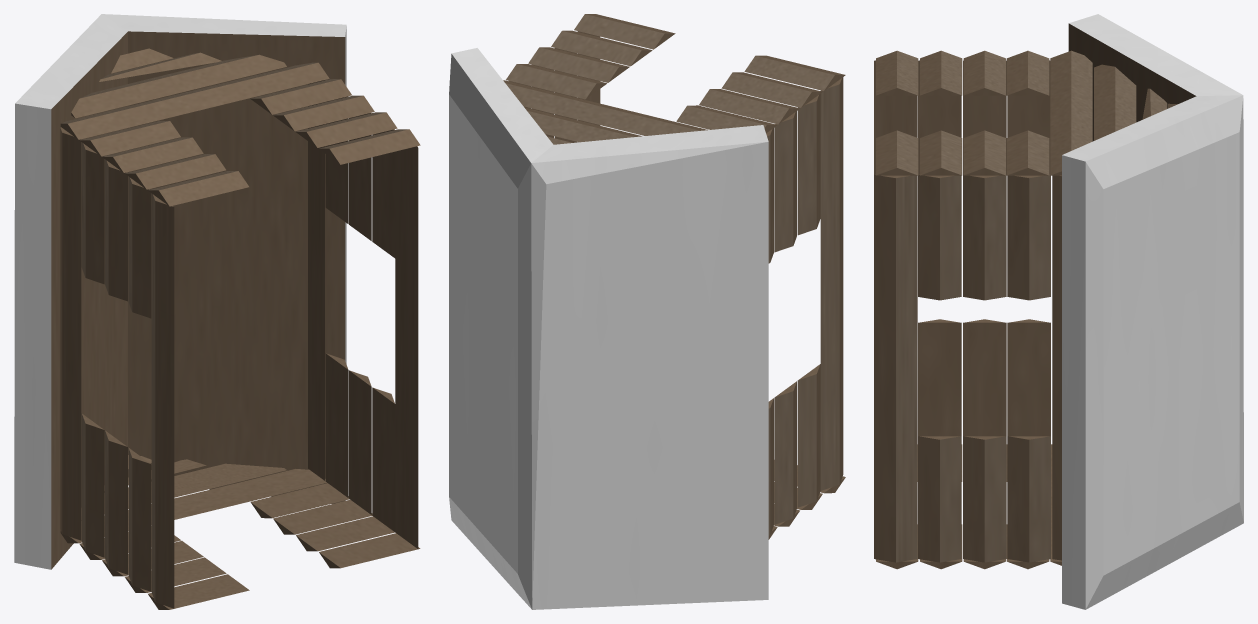
File: ice_share_house.FBX
The picture shows the model from 3 angles, left to right: view 1: azimuth 30°, elevation 25°; view 2: azimuth 150°, elevation 25°; view 3: azimuth 270°, elevation 25°; orthographic projection. The views are drawn at different scales.
Parts seen in each view (by area): view 1: winter_house; view 2: winter_house; view 3: winter_house.
Boxes of the visible parts, <box> form: winter_house: <box>14,14,420,609</box>; winter_house: <box>449,14,845,609</box>; winter_house: <box>874,14,1243,609</box>.
Size of the model in its own units: 97.96 by 135 by 101.
